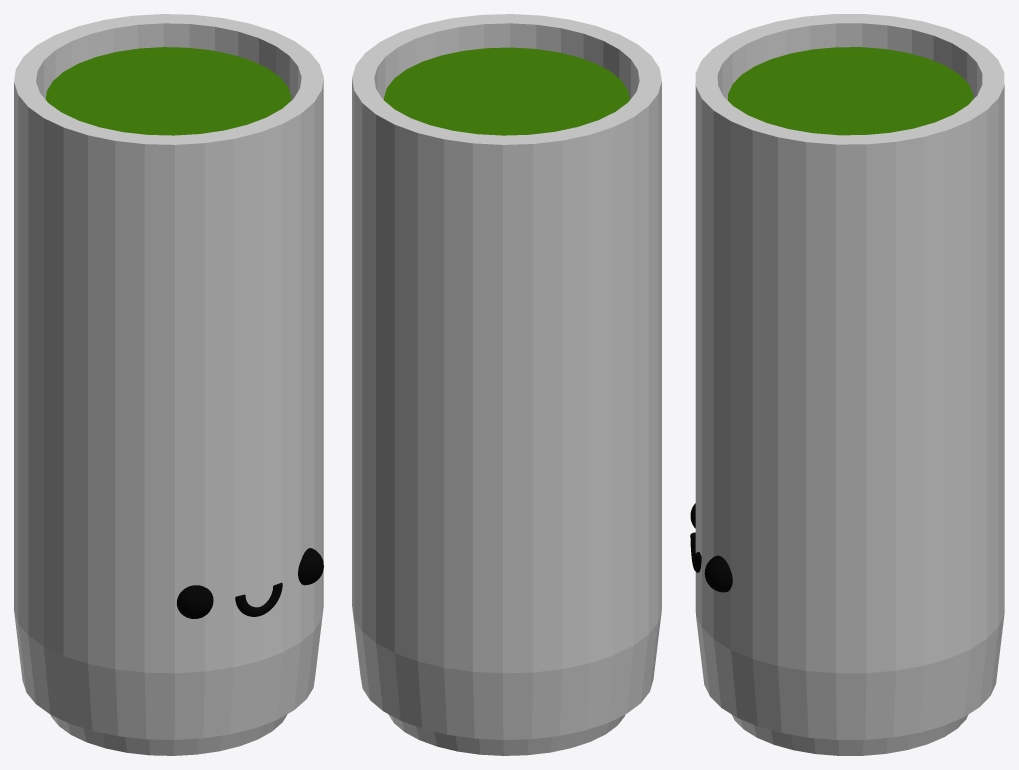
Rendered from matcha.glb.
3 views of the same model, side by side, from view 1: azimuth 30°, elevation 25°; view 2: azimuth 150°, elevation 25°; view 3: azimuth 270°, elevation 25° (orthographic).
Parts seen in each view (by area): view 1: Glass Cup, Matcha, Sphere, Sphere.001, Torus; view 2: Glass Cup, Matcha; view 3: Glass Cup, Matcha, Sphere.001.
Boxes of the visible parts, box(x1,y1,x2,y2) form: Glass Cup: box(14, 14, 323, 755); Matcha: box(45, 47, 291, 135); Sphere: box(177, 585, 213, 618); Sphere.001: box(298, 548, 323, 585); Torus: box(235, 582, 282, 616); Glass Cup: box(352, 14, 661, 755); Matcha: box(384, 47, 629, 135); Glass Cup: box(695, 14, 1004, 755); Matcha: box(728, 47, 973, 135); Sphere.001: box(704, 555, 732, 592).
Size of the model in its own units: 1.99 by 4.45 by 2.03.
